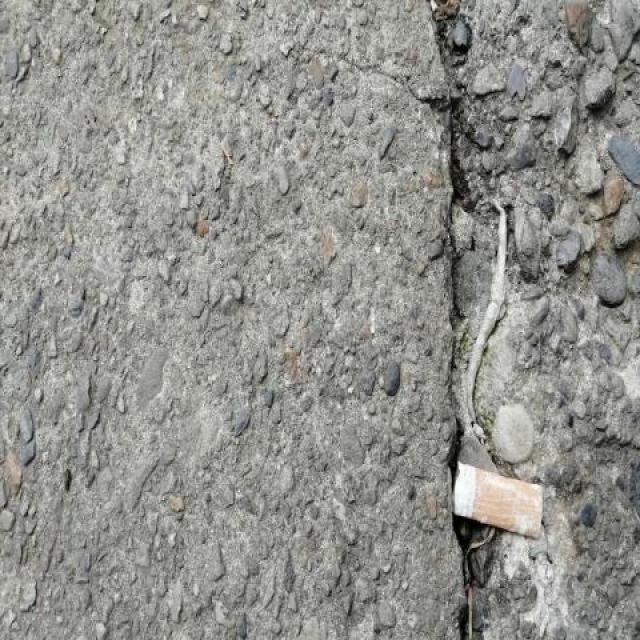non-organic waste: (448, 457, 547, 546)
